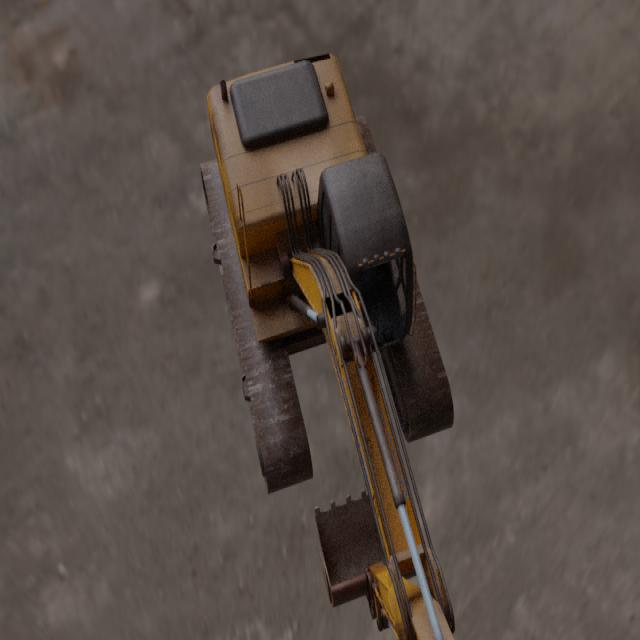excavator: (199, 52, 455, 640)
